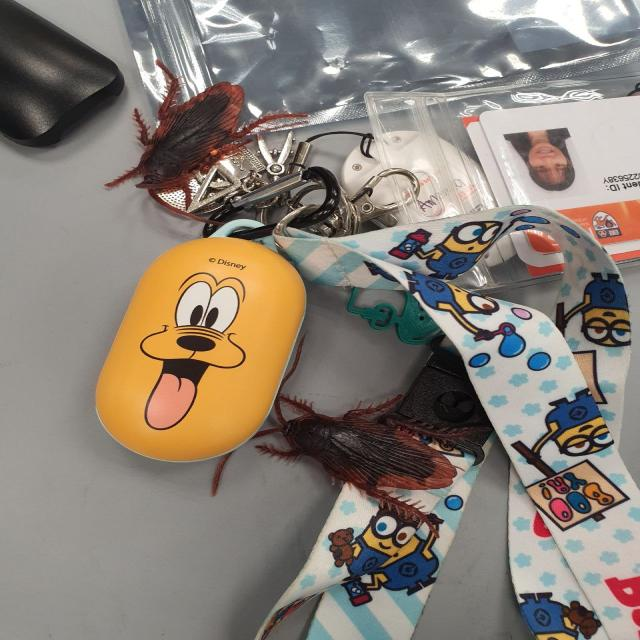Cockroach: (235, 376, 459, 514), (111, 63, 295, 195)
